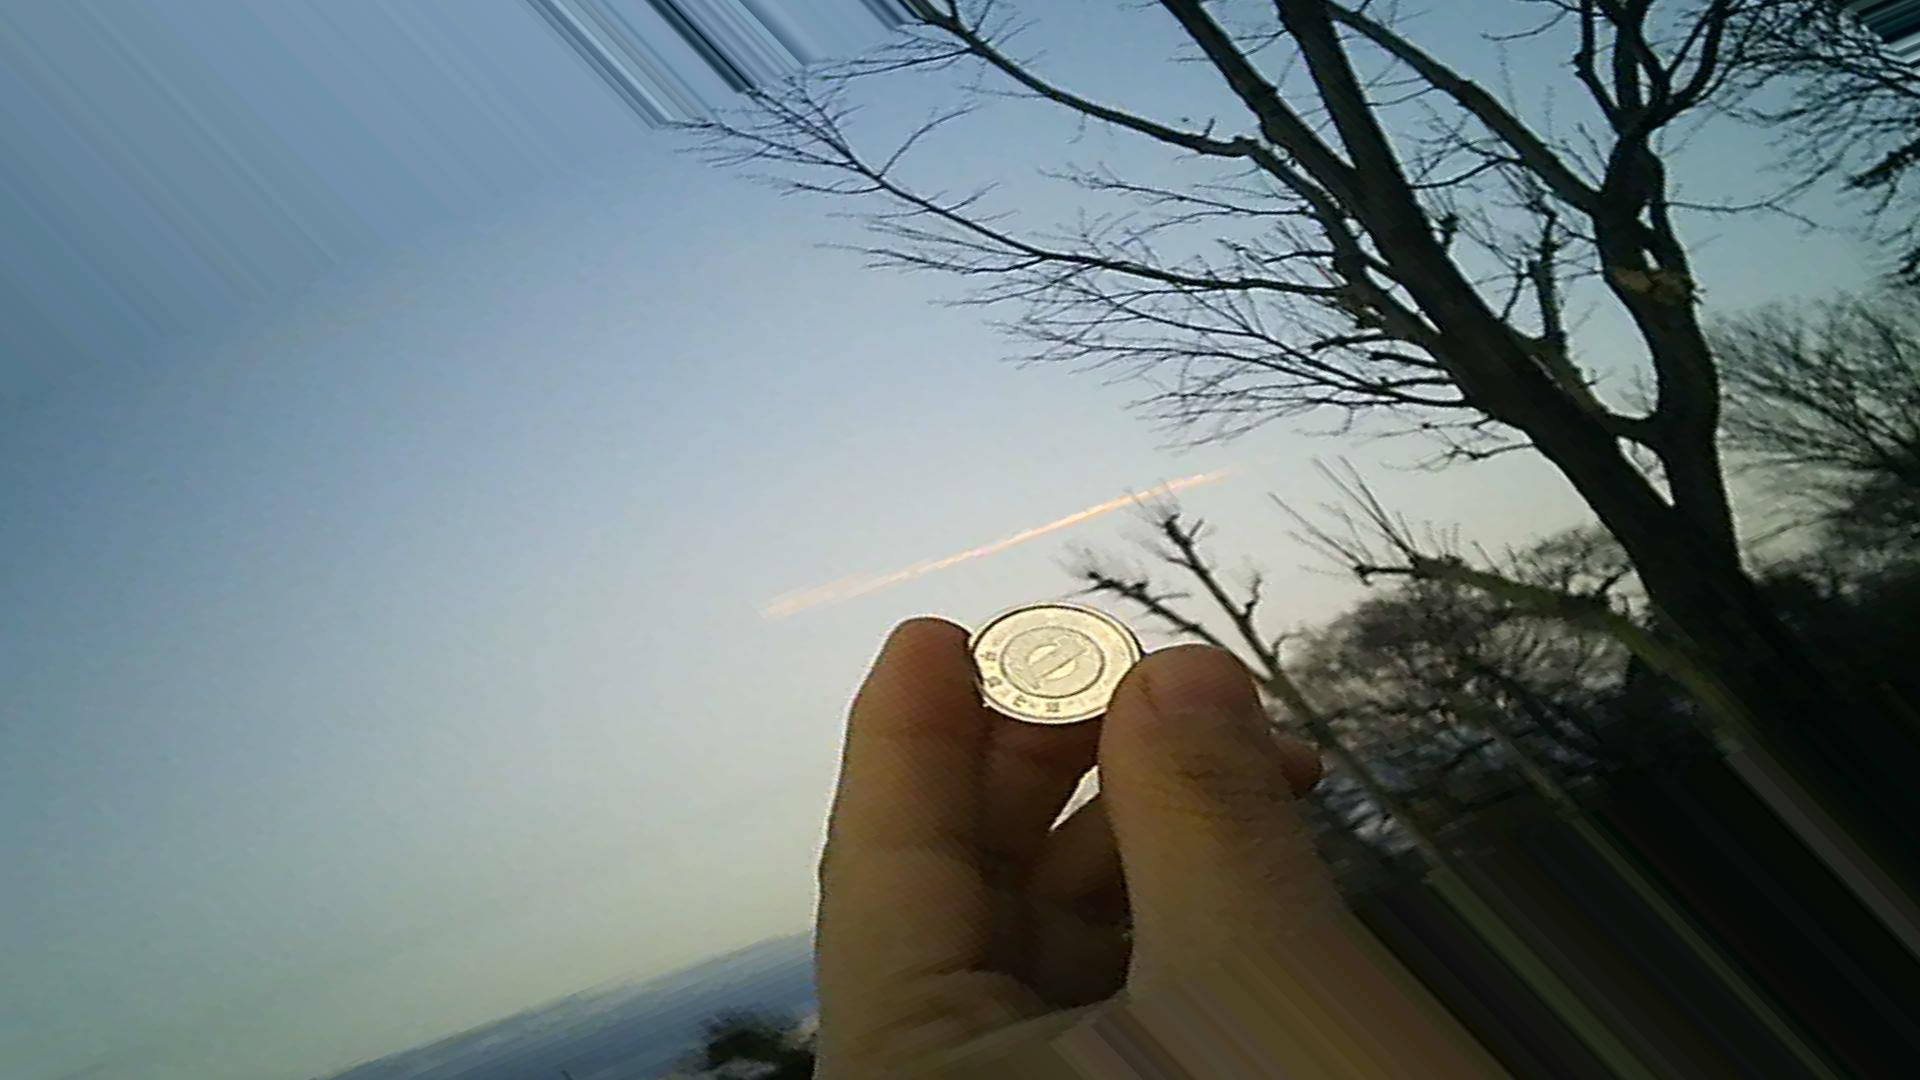1 Yen: (953, 589, 1145, 742)
